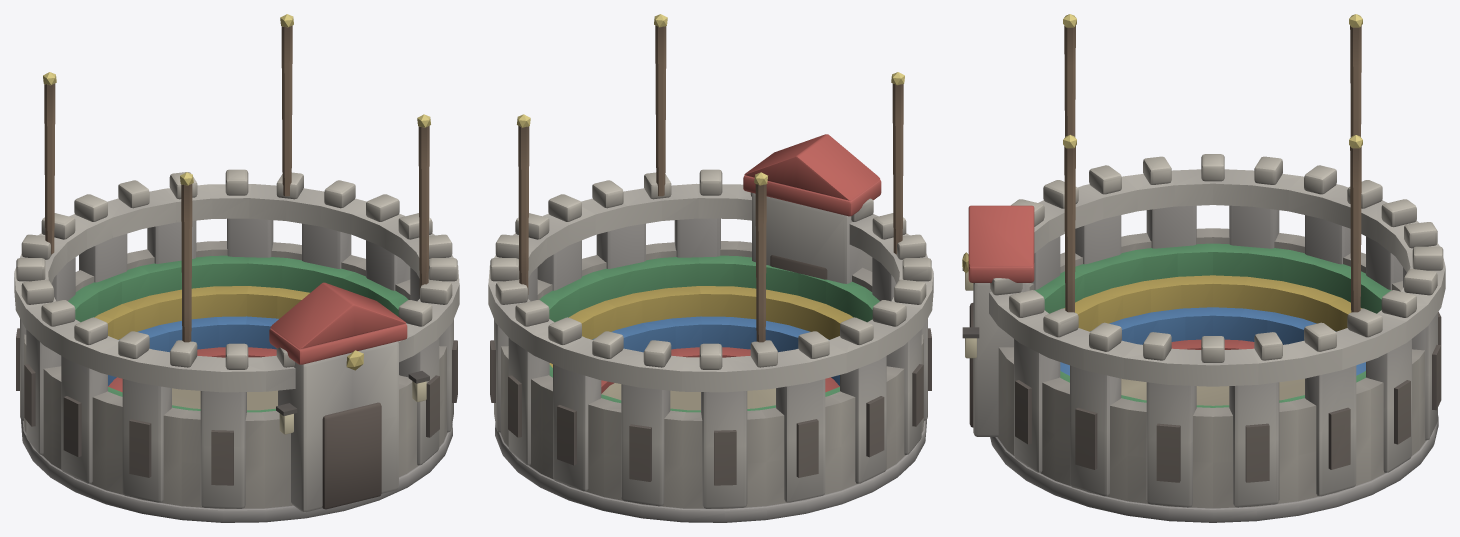
The model's file is arena.glb.
The picture shows the model from 3 angles, left to right: view 1: azimuth 30°, elevation 25°; view 2: azimuth 150°, elevation 25°; view 3: azimuth 270°, elevation 25°; orthographic projection. The views are drawn at different scales.
Visible parts, largest first — view 1: main, glow; view 2: main; view 3: main.
Boxes of the visible parts, x1,y1,x2,y2 form: main: [14, 14, 459, 522]; glow: [279, 381, 426, 434]; main: [488, 14, 933, 522]; main: [962, 14, 1445, 522].
Size of the model in its own units: 1.98 by 1.67 by 2.06.
